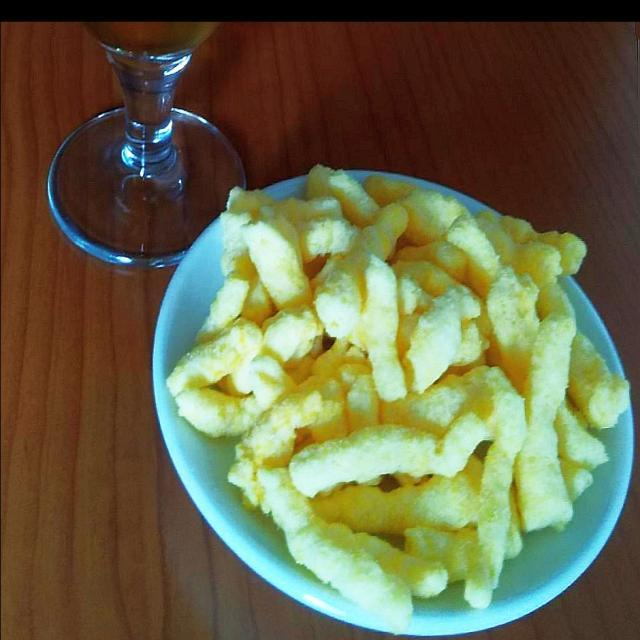Chips packaged: (174, 163, 632, 615)
